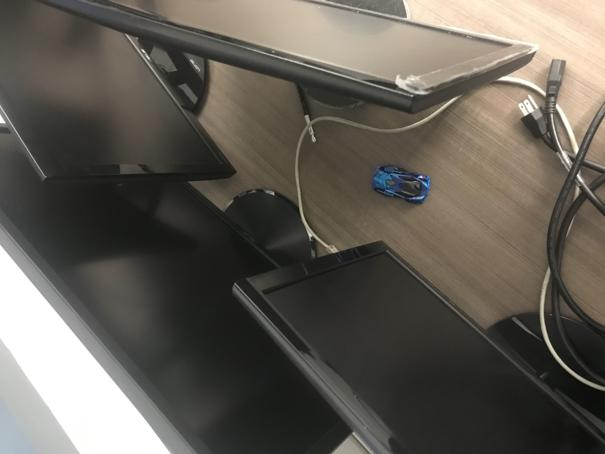Shock: (369, 163, 433, 205)
